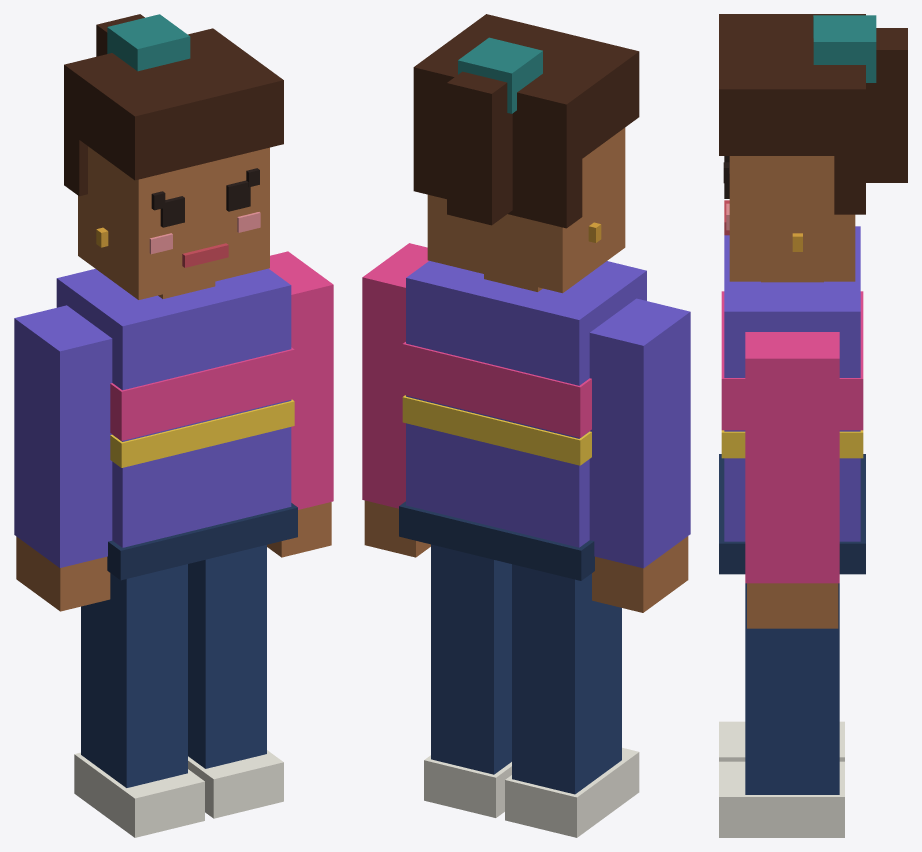
File: high_class_student_4.glb
The picture shows the model from 3 angles, left to right: view 1: azimuth 30°, elevation 25°; view 2: azimuth 150°, elevation 25°; view 3: azimuth 270°, elevation 25°; orthographic projection. The views are drawn at different scales.
Parts seen in each view (by area): view 1: Box9, Box7, Box24, Box5, Box14, Box1, Box3, Box10, Box6, Box12, Box11, Box2 (+7 smaller); view 2: Box9, Box7, Box5, Box24, Box1, Box14, Box3, Box10, Box27, Box25, Box12, Box6 (+5 smaller); view 3: Box3, Box24, Box1, Box14, Box9, Box2, Box27, Box4, Box26, Box10, Box12, Box25 (+2 smaller).
Boxes of the visible parts, x1,y1,x2,y2 form: Box9: [56, 268, 291, 547]; Box7: [14, 305, 112, 567]; Box24: [64, 28, 283, 180]; Box5: [81, 564, 187, 787]; Box14: [78, 146, 269, 299]; Box1: [188, 545, 266, 768]; Box3: [269, 251, 333, 509]; Box10: [110, 347, 294, 440]; Box6: [74, 752, 204, 837]; Box12: [107, 503, 297, 580]; Box11: [110, 399, 294, 467]; Box2: [188, 750, 283, 818]; Box9: [406, 261, 646, 547]; Box7: [589, 298, 690, 568]; Box5: [512, 564, 621, 794]; Box24: [413, 14, 639, 170]; Box1: [431, 544, 511, 774]; Box14: [427, 127, 625, 293]; Box3: [362, 243, 428, 508]; Box10: [402, 342, 591, 437]; Box27: [447, 71, 512, 225]; Box25: [413, 101, 582, 228]; Box12: [399, 501, 594, 580]; Box6: [505, 747, 639, 837]; Box3: [745, 332, 839, 583]; Box24: [719, 14, 865, 155]; Box1: [745, 583, 839, 794]; Box14: [729, 156, 855, 281]; Box9: [724, 226, 860, 541]; Box2: [719, 761, 844, 837]; Box27: [866, 28, 907, 182]; Box4: [747, 583, 838, 628]; Box26: [813, 15, 876, 82]; Box10: [721, 291, 863, 430]; Box12: [719, 454, 865, 574]; Box25: [834, 122, 865, 214].
Bounding box in the file's own units: 0.7088 × 1.84 × 0.4082.
